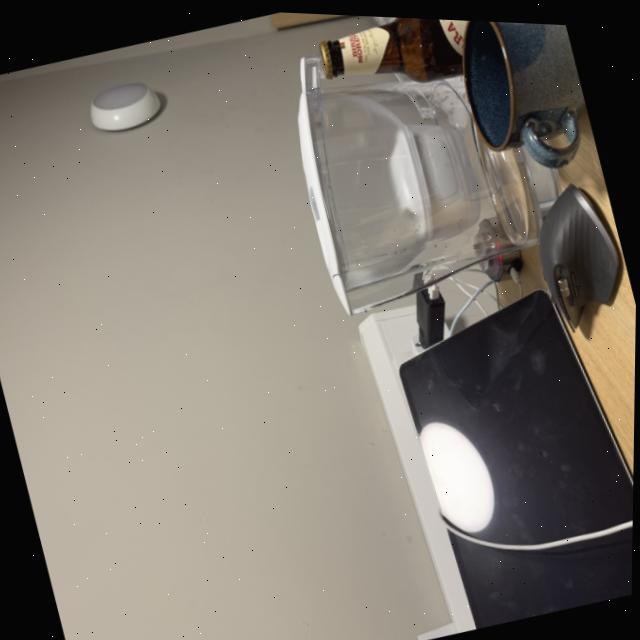beer: (306, 11, 551, 106)
